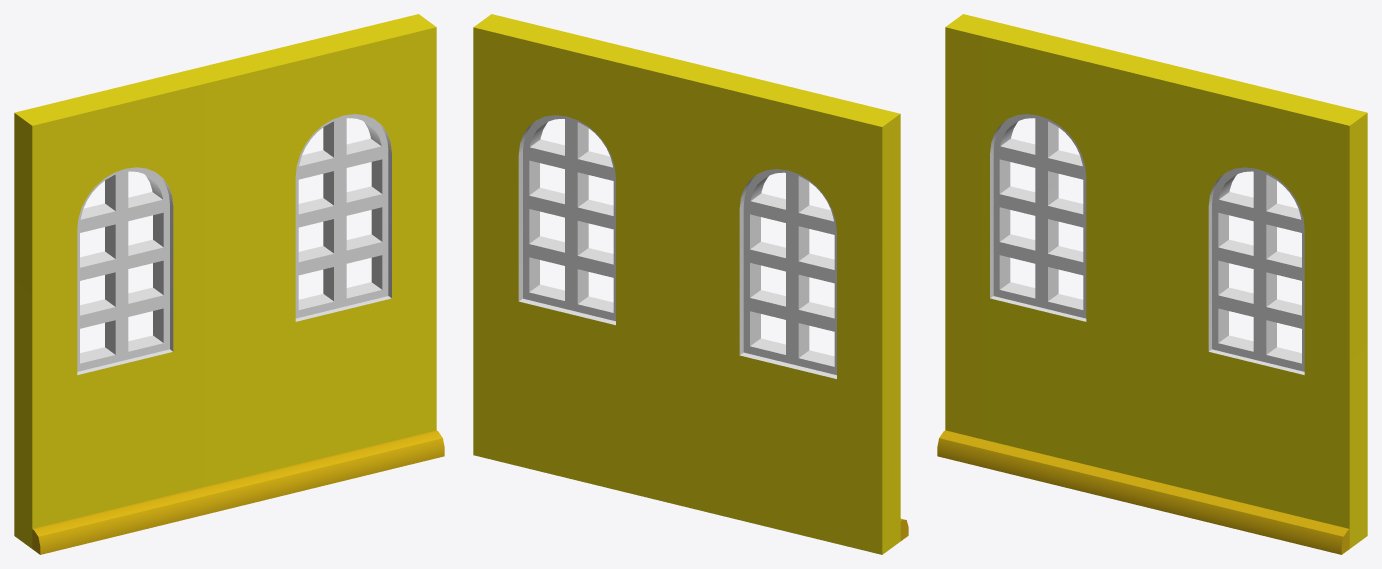
File: Y_Wall004.fbx
3 renders of one model, left to right at view 1: azimuth 30°, elevation 25°; view 2: azimuth 150°, elevation 25°; view 3: azimuth 330°, elevation 25°, orthographic.
Parts seen in each view (by area): view 1: Wall004.003; view 2: Wall004.003; view 3: Wall004.003.
Boxes of the visible parts, x1,y1,x2,y2 form: Wall004.003: (14, 14, 444, 554); Wall004.003: (473, 14, 908, 554); Wall004.003: (937, 14, 1367, 554).
Bounding box in the file's own units: 250 × 250 × 27.87.
Materials: 1 (1 with a texture image).
